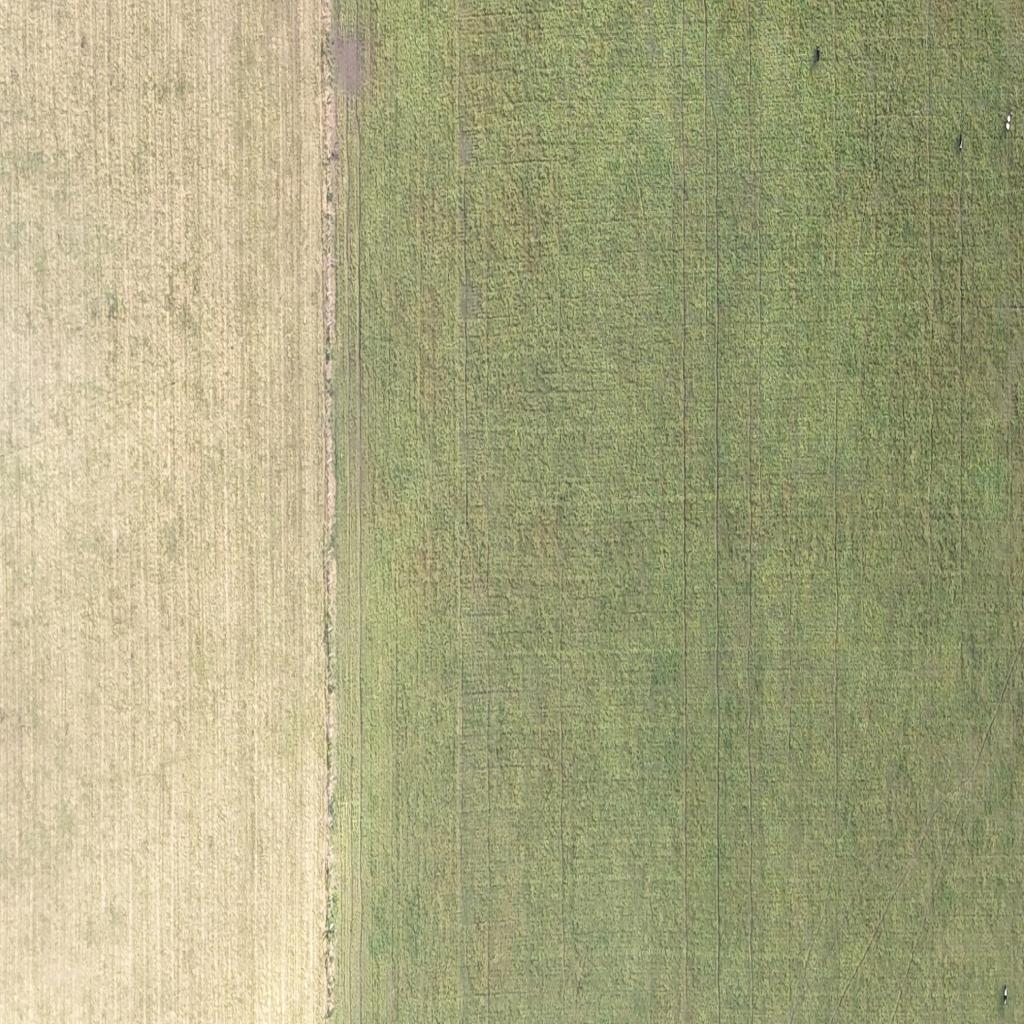cow: (1005, 110, 1013, 130), (1002, 986, 1009, 1005), (814, 46, 821, 63), (959, 137, 964, 151)
